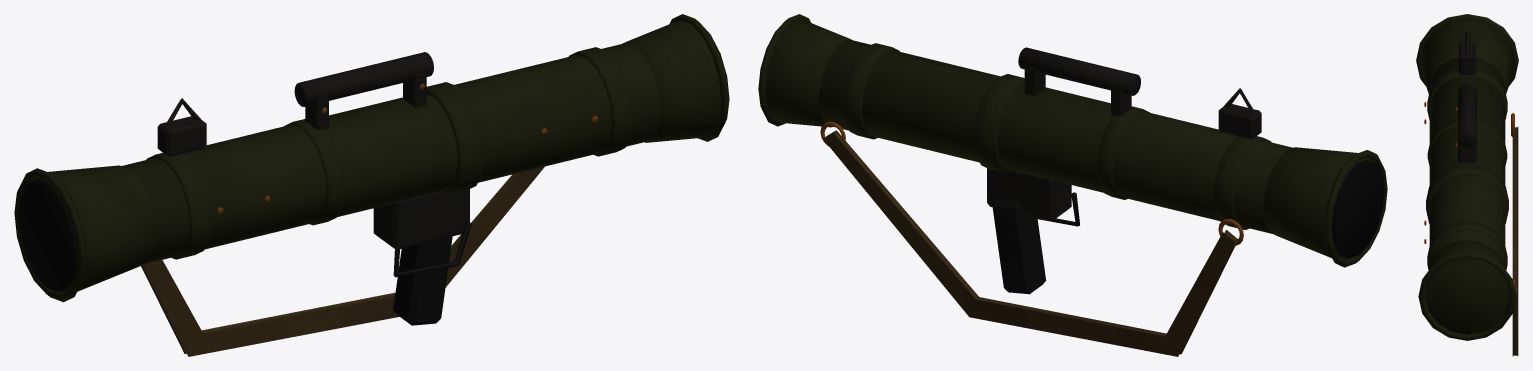
The model's file is vintage_launcher_prop_LOD1.glb.
3 renders of one model, left to right at view 1: azimuth 30°, elevation 25°; view 2: azimuth 150°, elevation 25°; view 3: azimuth 270°, elevation 25°, orthographic. The views are drawn at different scales.
Parts seen in each view (by area): view 1: Sealed nonfunctional launcher outer tube, Wide carrying sling, Flared nonfunctional front bell, Rear flared end cap, Shallow black safety blocker, Solid grip mounting housing, Solid static grip, Static exterior sight tube, External reinforcing collar.002, External reinforcing collar, External reinforcing collar.003, Wide front rolled lip (+6 smaller); view 2: Sealed nonfunctional launcher outer tube, Wide carrying sling, Flared nonfunctional front bell, Rear flared end cap, Shallow black safety blocker, Solid static grip, Solid grip mounting housing, Static exterior sight tube, External reinforcing collar.002, External reinforcing collar.003, External reinforcing collar, Wide front rolled lip (+5 smaller); view 3: Sealed nonfunctional launcher outer tube, Rear flared end cap, Flared nonfunctional front bell, Rear rolled lip, Wide carrying sling, External reinforcing collar.002, Static exterior sight tube, Wide front rolled lip, External reinforcing collar.003, External reinforcing collar, External reinforcing collar.001, Front external sight block (+2 smaller).
Part boxes in pixels (x1,y1,x2,y2): Sealed nonfunctional launcher outer tube: [122, 43, 660, 263]; Wide carrying sling: [141, 166, 544, 356]; Flared nonfunctional front bell: [28, 165, 155, 292]; Rear flared end cap: [622, 20, 721, 142]; Shallow black safety blocker: [18, 180, 77, 291]; Solid grip mounting housing: [373, 189, 469, 248]; Solid static grip: [393, 236, 452, 325]; Static exterior sight tube: [294, 52, 433, 106]; External reinforcing collar.002: [426, 82, 484, 195]; External reinforcing collar: [146, 153, 212, 259]; External reinforcing collar.003: [568, 47, 633, 156]; Wide front rolled lip: [14, 168, 86, 302]; Sealed nonfunctional launcher outer tube: [818, 39, 1293, 233]; Wide carrying sling: [823, 130, 1237, 356]; Flared nonfunctional front bell: [1263, 147, 1374, 259]; Rear flared end cap: [765, 19, 851, 127]; Shallow black safety blocker: [1332, 160, 1384, 258]; Solid static grip: [992, 200, 1045, 294]; Solid grip mounting housing: [987, 168, 1071, 221]; Static exterior sight tube: [1018, 47, 1140, 95]; External reinforcing collar.002: [973, 74, 1024, 173]; External reinforcing collar.003: [842, 43, 899, 139]; External reinforcing collar: [1213, 136, 1271, 229]; Wide front rolled lip: [1324, 150, 1387, 267]; Sealed nonfunctional launcher outer tube: [1429, 57, 1505, 266]; Rear flared end cap: [1425, 240, 1509, 334]; Flared nonfunctional front bell: [1420, 19, 1514, 93]; Rear rolled lip: [1418, 252, 1516, 340]; Wide carrying sling: [1512, 126, 1518, 356]; External reinforcing collar.002: [1426, 163, 1508, 223]; Static exterior sight tube: [1458, 84, 1476, 147]; Wide front rolled lip: [1416, 14, 1518, 85]; External reinforcing collar.003: [1427, 221, 1507, 269]; External reinforcing collar: [1427, 68, 1507, 119]; External reinforcing collar.001: [1427, 118, 1507, 165]; Front external sight block: [1458, 42, 1476, 74].
Size of the model in its own units: 0.9675 by 0.4285 by 0.176.
6 materials, 6 textured.
